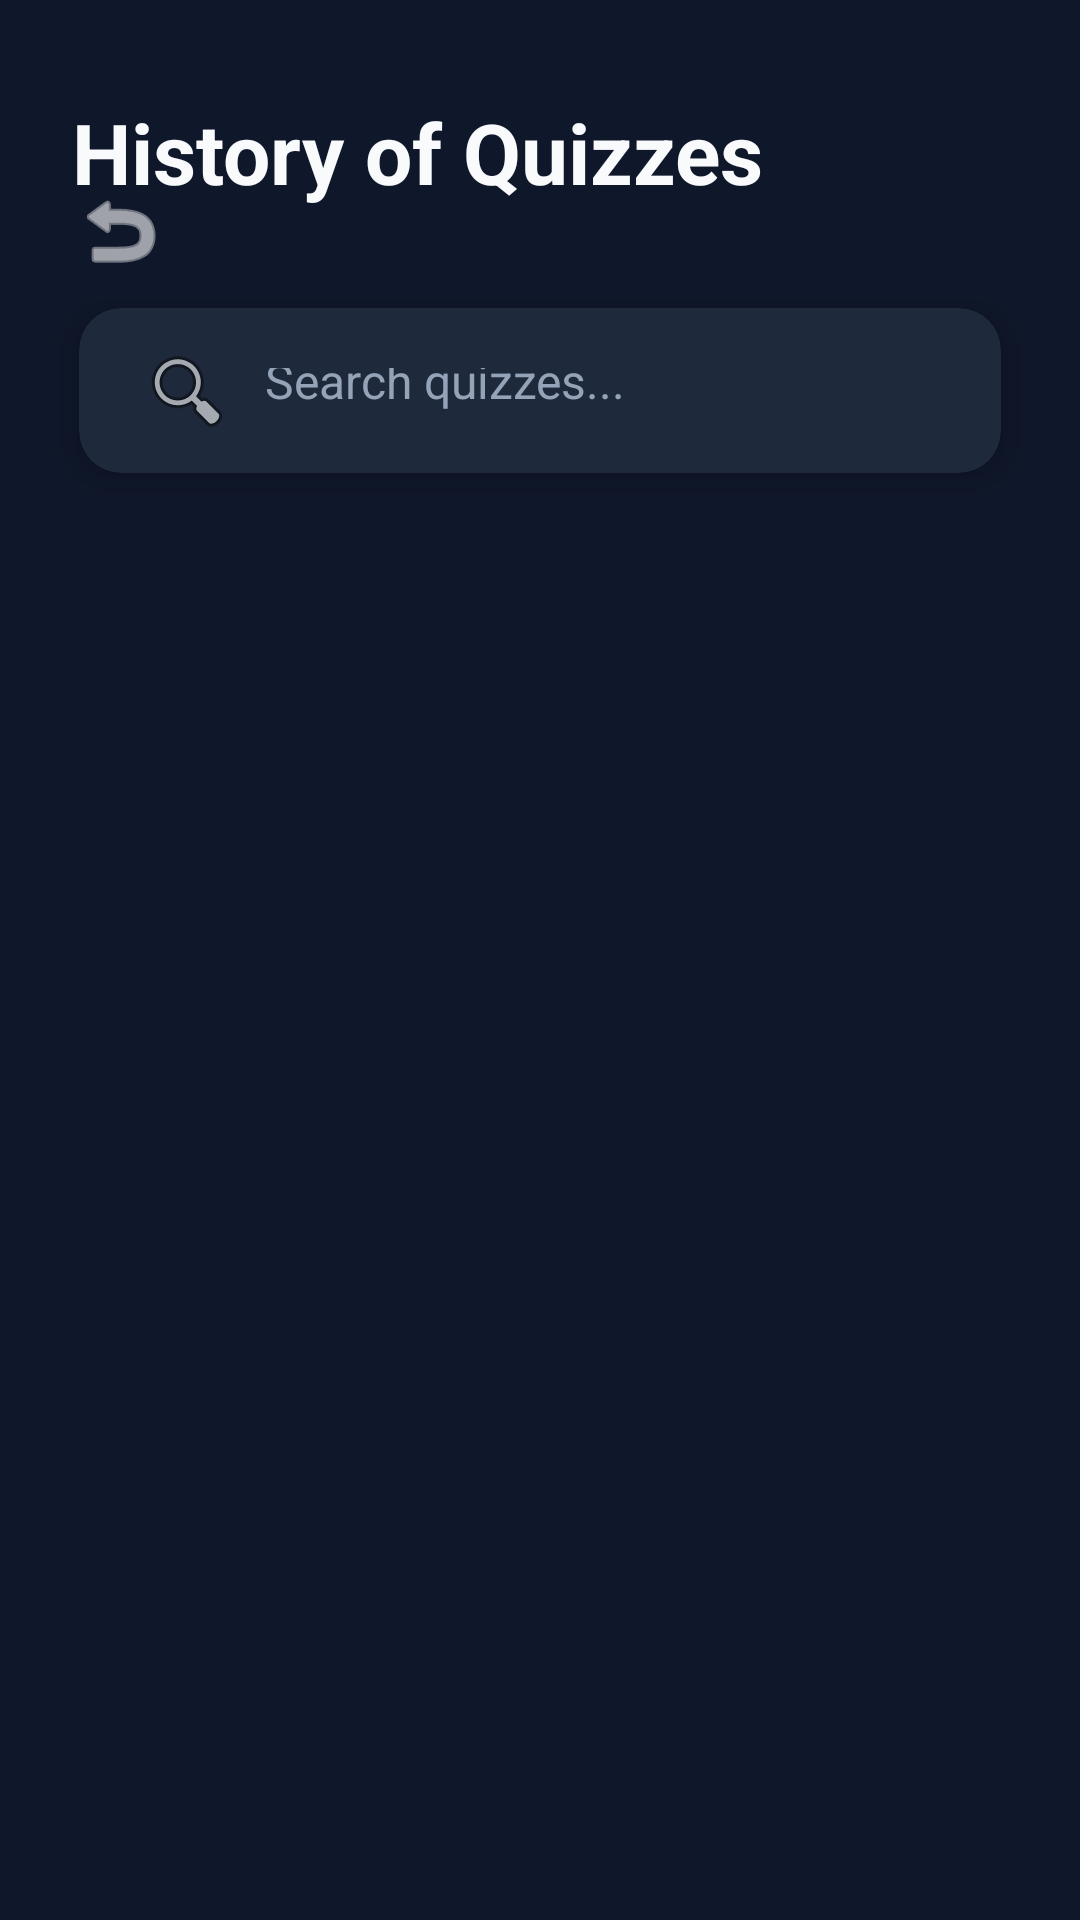

Point at icon controls on the screen. Image size 1080 × 1920, points as (x=x, y=y).
revert: (x=121, y=231)
